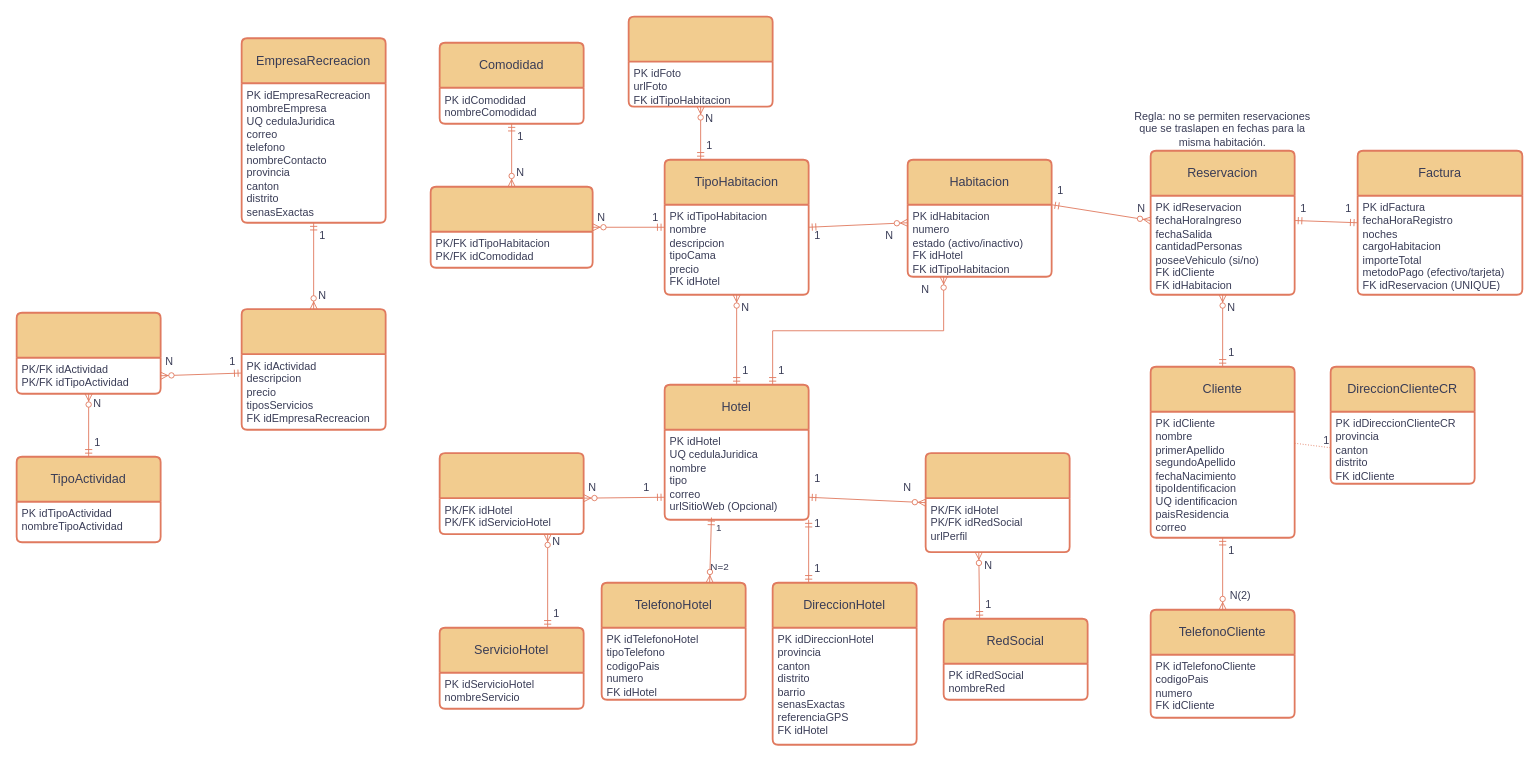
This 1538x761 diagram has some shape labels left out. The box of each missing label's shape, as (x1, y1, x2, y2) in pixels:
ActividadRecreacion: (240, 308, 386, 430)
ActividadTipoActividad: (15, 311, 161, 394)
FotoTipoHabitacion: (627, 15, 773, 107)
HotelRedSocial: (924, 452, 1070, 553)
HotelServicioCatalogo: (438, 452, 584, 535)
TipoHabitacionComodidad: (429, 185, 593, 268)
